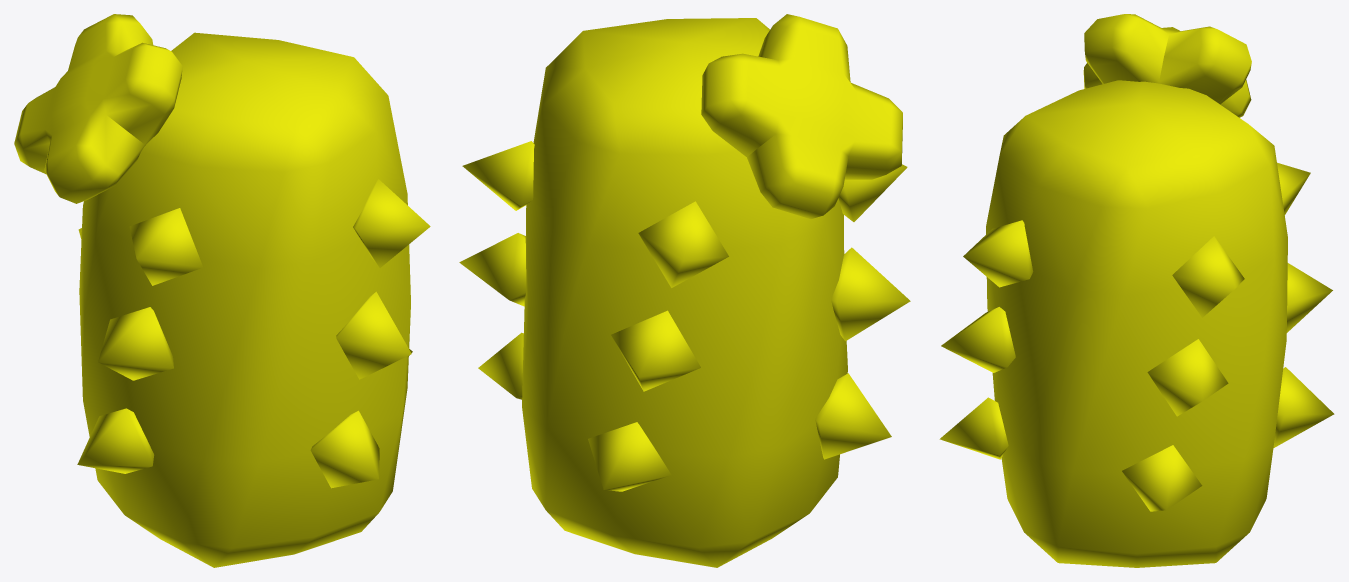
The model's file is cactus_3.glb.
3 renders of one model, left to right at view 1: azimuth 30°, elevation 25°; view 2: azimuth 150°, elevation 25°; view 3: azimuth 270°, elevation 25°, orthographic. The views are drawn at different scales.
Parts seen in each view (by area): view 1: cactus_3_LOD0; view 2: cactus_3_LOD0; view 3: cactus_3_LOD0.
Boxes of the visible parts, x1,y1,x2,y2 form: cactus_3_LOD0: (14,14,430,567); cactus_3_LOD0: (459,14,910,567); cactus_3_LOD0: (939,14,1334,567).
Size of what is drawn, in the model's own units: 0.9371 by 1.19 by 0.8907.
Materials: 1 (1 with a texture image).
